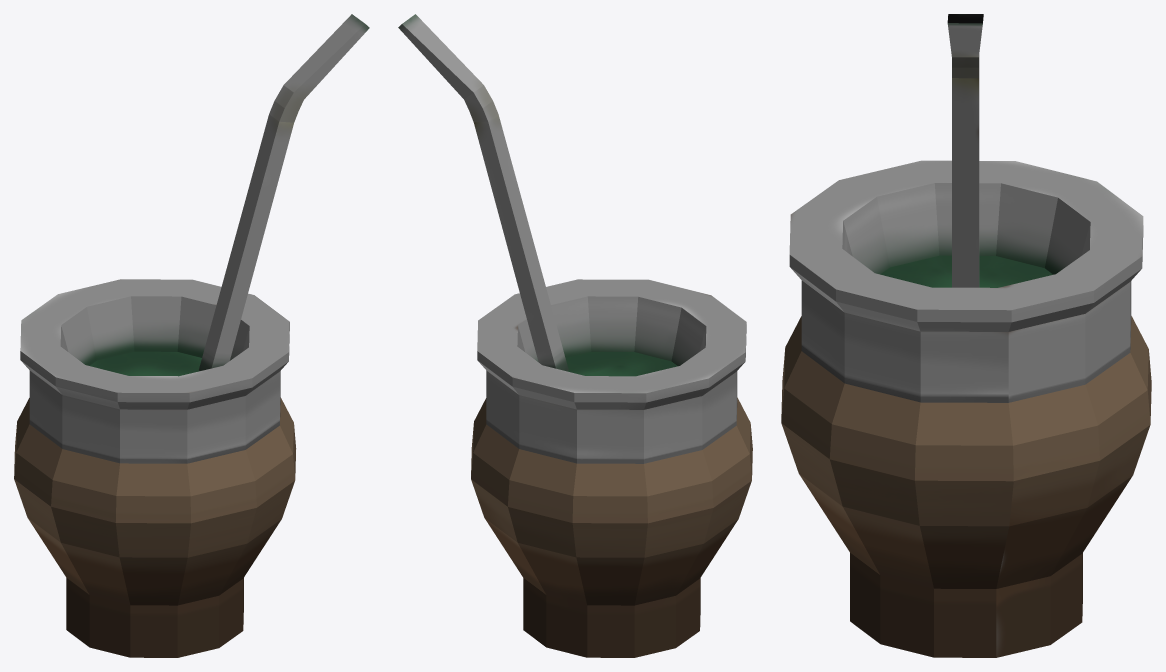
Rendered from Mate.fbx.
3 renders of one model, left to right at view 1: azimuth 30°, elevation 25°; view 2: azimuth 150°, elevation 25°; view 3: azimuth 270°, elevation 25°, orthographic. The views are drawn at different scales.
Visible parts, largest first — view 1: Cylinder; view 2: Cylinder; view 3: Cylinder.
Boxes of the visible parts, left/top/right/bottom form: Cylinder: left=14, top=14, right=369, bottom=657; Cylinder: left=398, top=14, right=752, bottom=657; Cylinder: left=781, top=14, right=1151, bottom=657.
Bounding box in the file's own units: 141 × 225 × 104.
